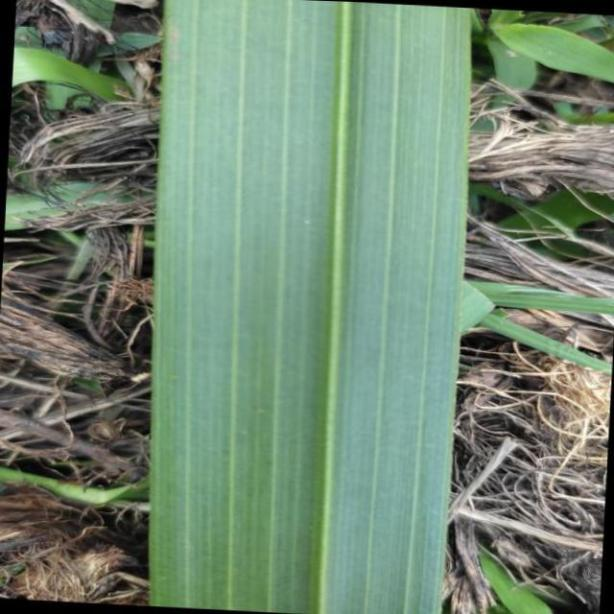Healthy: (150, 5, 474, 614)
